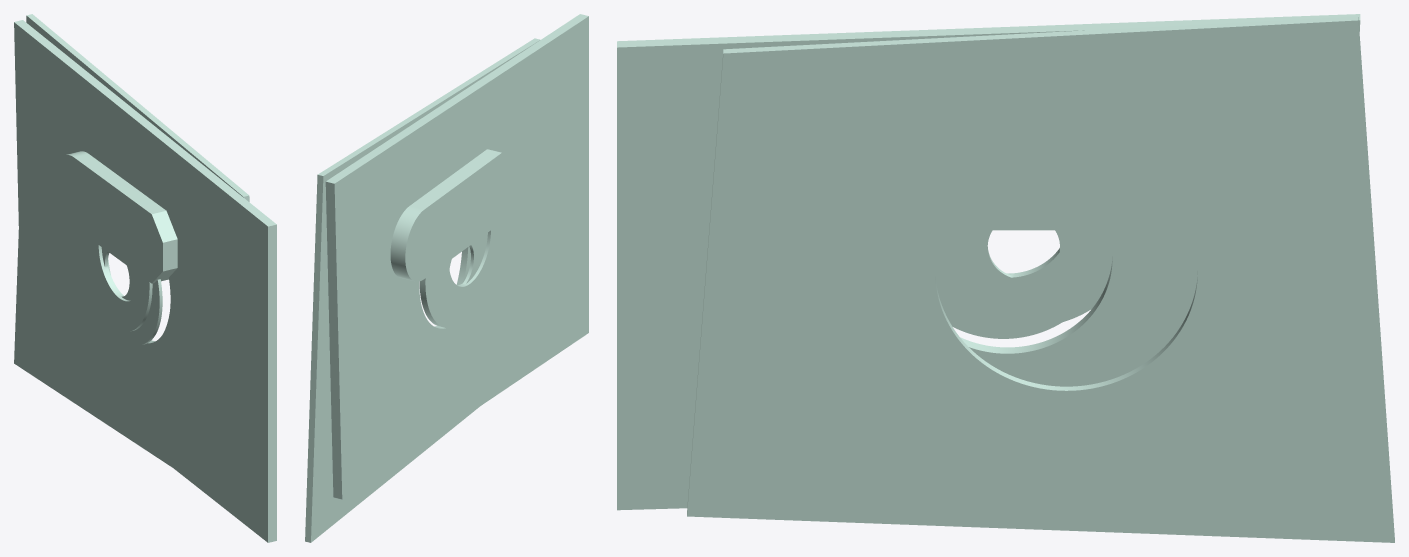
3 views of the same model, side by side, from view 1: azimuth 30°, elevation 25°; view 2: azimuth 150°, elevation 25°; view 3: azimuth 270°, elevation 25° (orthographic). The views are drawn at different scales.
Parts seen in each view (by area): view 1: Renderer Node; view 2: Renderer Node; view 3: Renderer Node.
Part boxes in pixels (x1,y1,x2,y2): Renderer Node: (14,14,276,542); Renderer Node: (305,14,588,542); Renderer Node: (617,14,1394,542).
Bounding box in the file's own units: 0.0859 × 0.903 × 1.22.
